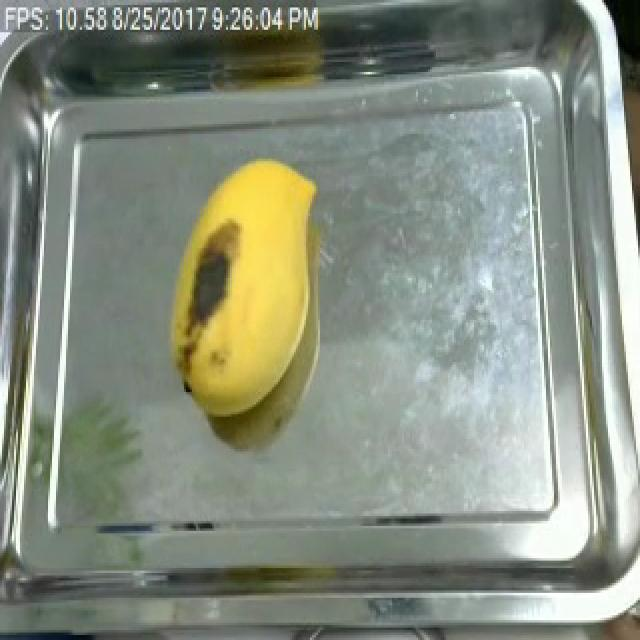fruit: (168, 144, 330, 434)
